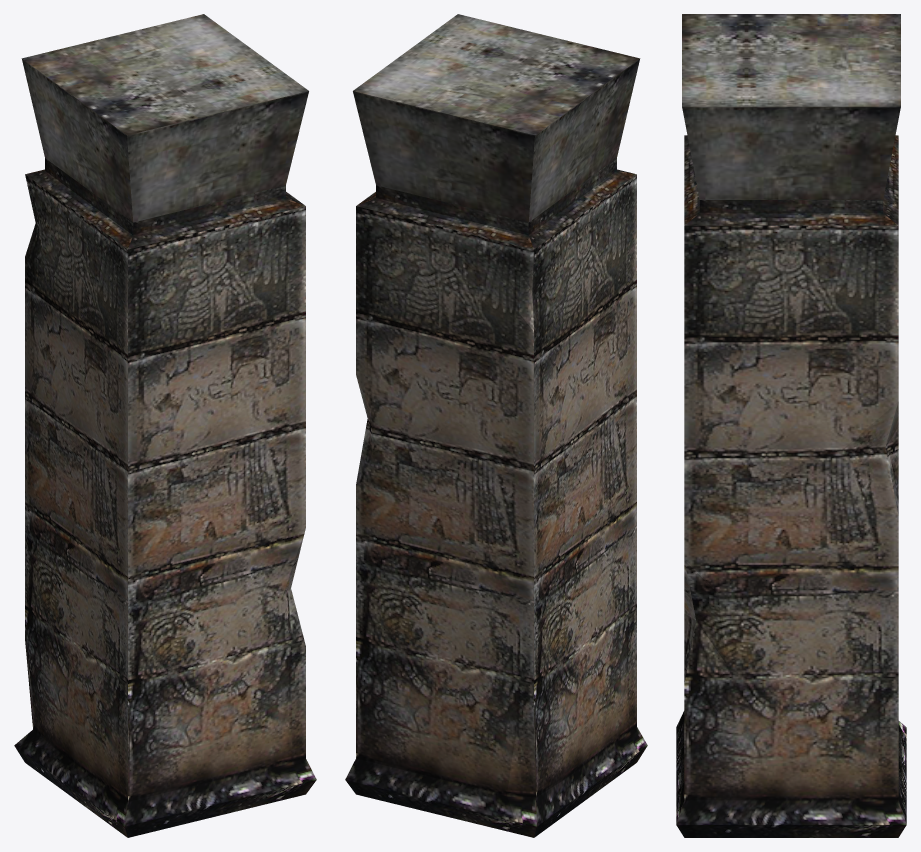
File: Desert_obj01.FBX
3 renders of one model, left to right at view 1: azimuth 30°, elevation 25°; view 2: azimuth 150°, elevation 25°; view 3: azimuth 270°, elevation 25°, orthographic. The views are drawn at different scales.
Visible parts, largest first — view 1: 02; view 2: 02; view 3: 02.
Part boxes in pixels (left/top/right/bottom): 02: left=14, top=14, right=316, bottom=837; 02: left=345, top=14, right=647, bottom=837; 02: left=676, top=14, right=906, bottom=837.
Bounding box in the file's own units: 115 × 404 × 115.
Materials: 1 (1 with a texture image).
